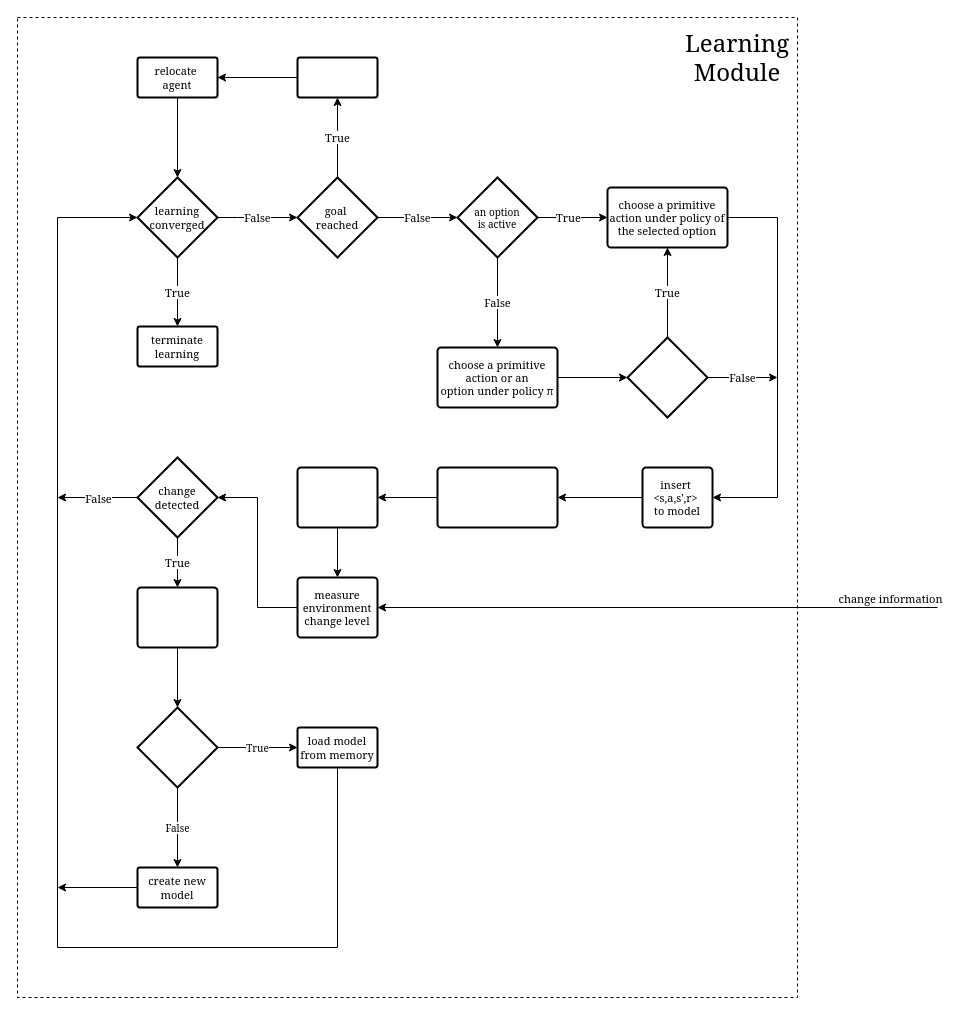
Some shapes in this 963 by 1015 pixel diagram are drawn without their labels. The box of each missing label's shape, as (x1, y1, x2, y2) in pixels:
an option is chosen: (626, 336, 708, 418)
log step number: (296, 56, 378, 98)
new environment is known: (136, 706, 218, 788)
perform betweenness centrality analysis and construct new options: (436, 466, 558, 528)
perform state updates: (296, 466, 378, 528)
save current model and state values: (136, 586, 218, 648)
